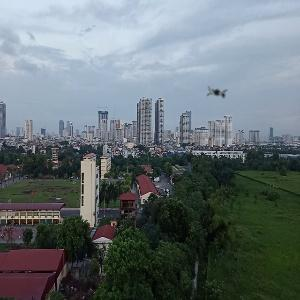drone: (186, 61, 254, 129)
